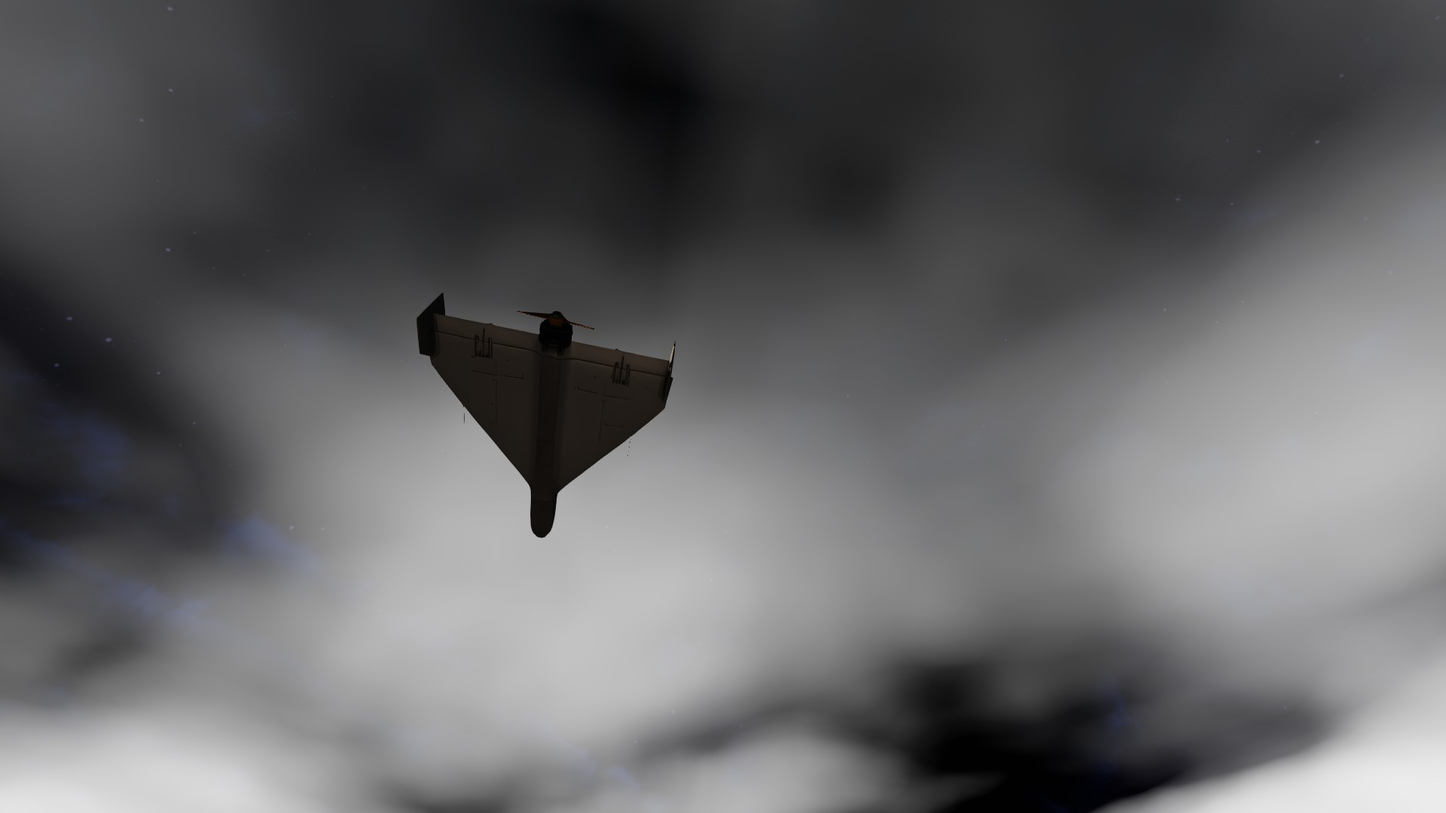shahed: (416, 292, 676, 538)
